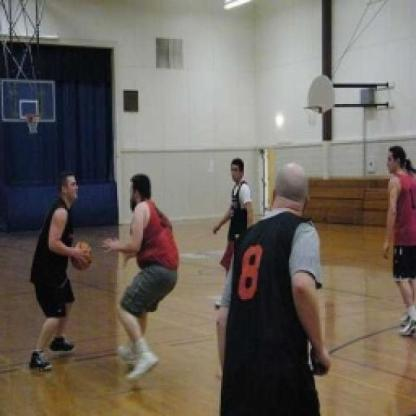basketball: (68, 238, 94, 269)
